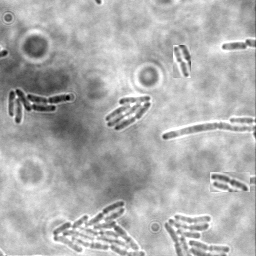Dividing: (161, 123, 255, 142), (210, 172, 250, 192), (173, 45, 191, 78), (221, 41, 248, 52)
Microcolony: (51, 200, 147, 255), (162, 212, 231, 255), (8, 89, 72, 126), (106, 96, 153, 132)
